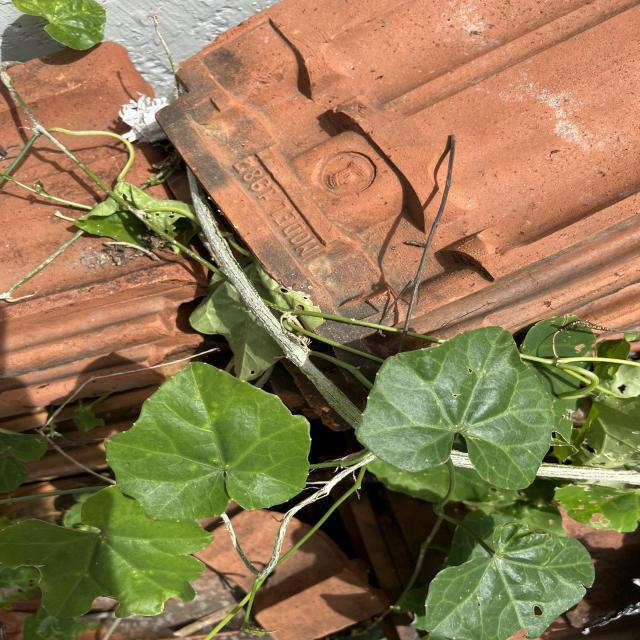Coccinia grandis: (101, 360, 314, 523), (353, 323, 558, 491)
